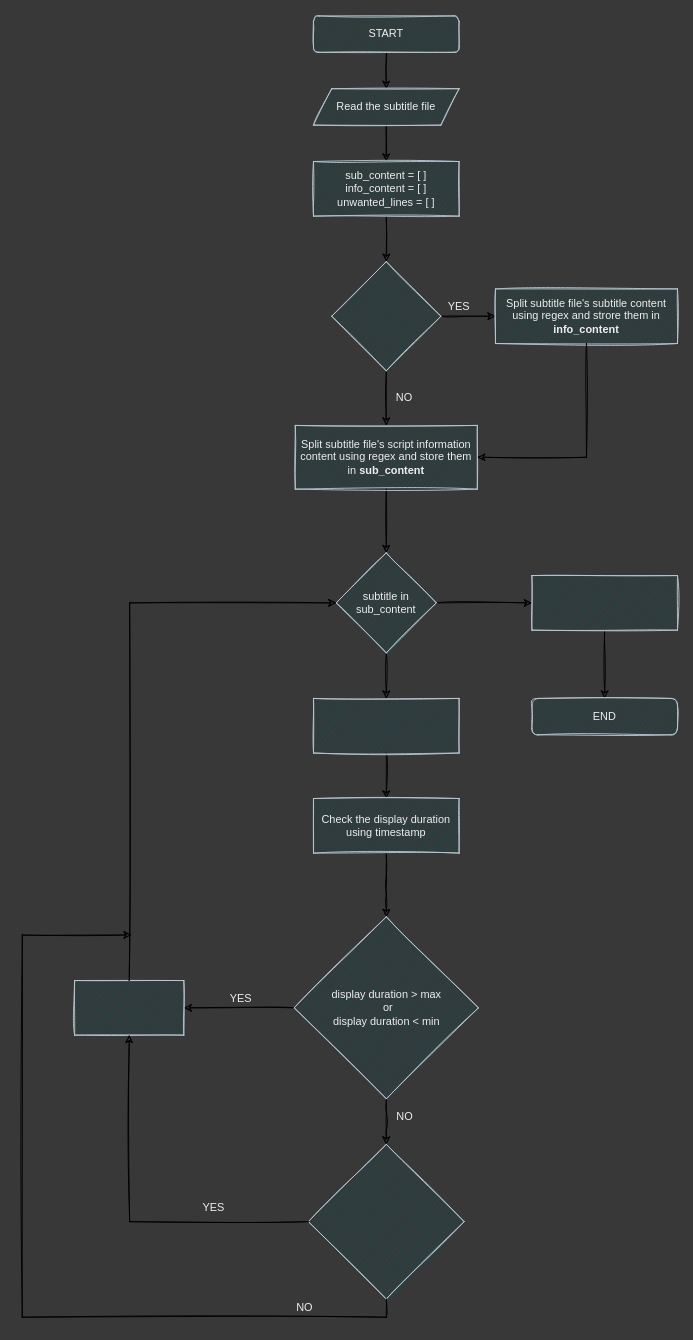
This 693x1340 diagram has some shape labels left out. Each missing label, with the centre of its shape:
"Create new subtitle file without unwanted_lines" belongs at (604,602).
"filetype == ass ?" belongs at (386,316).
"if subtitle contains pre defined words" belongs at (385,1221).
"split subtitle into timestamp and content" belongs at (386,725).
"sub_content added to unwanted_lines" belongs at (129,1007).
